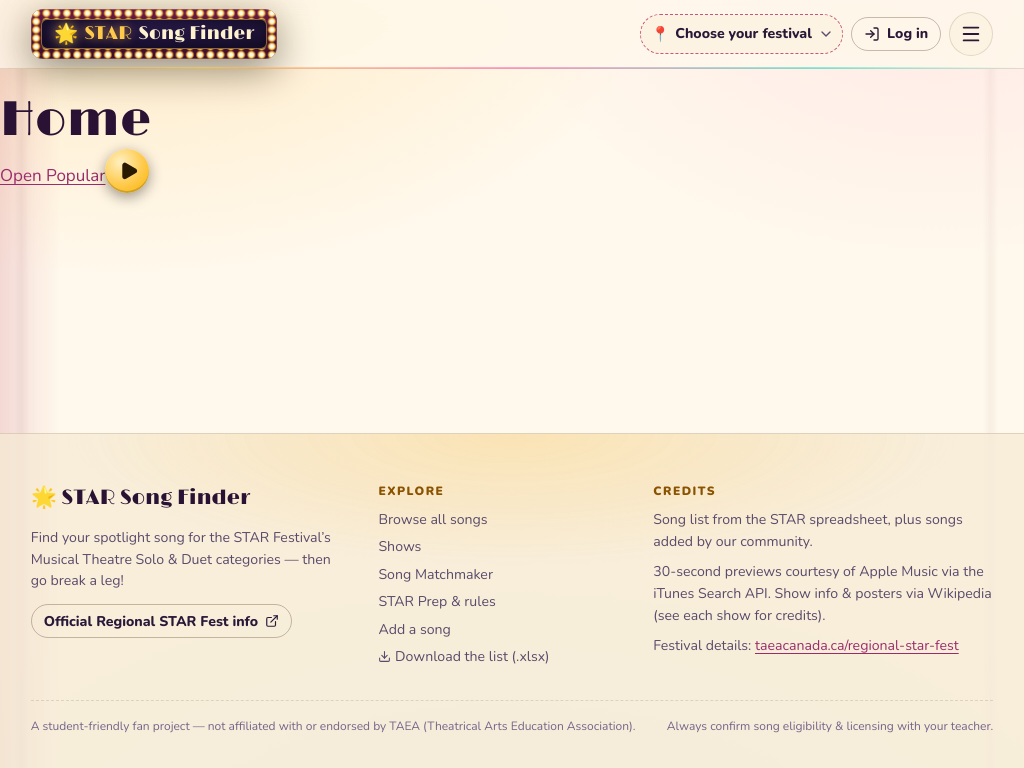
Test case: Header festival picker (SPEC §7b) › is in the header bar and in the mobile menu, and both stay in sync
The image size is (1024, 768).
Click the button with test id "menu-toggle".
click(971, 34)  # box 949,12 -> 993,56
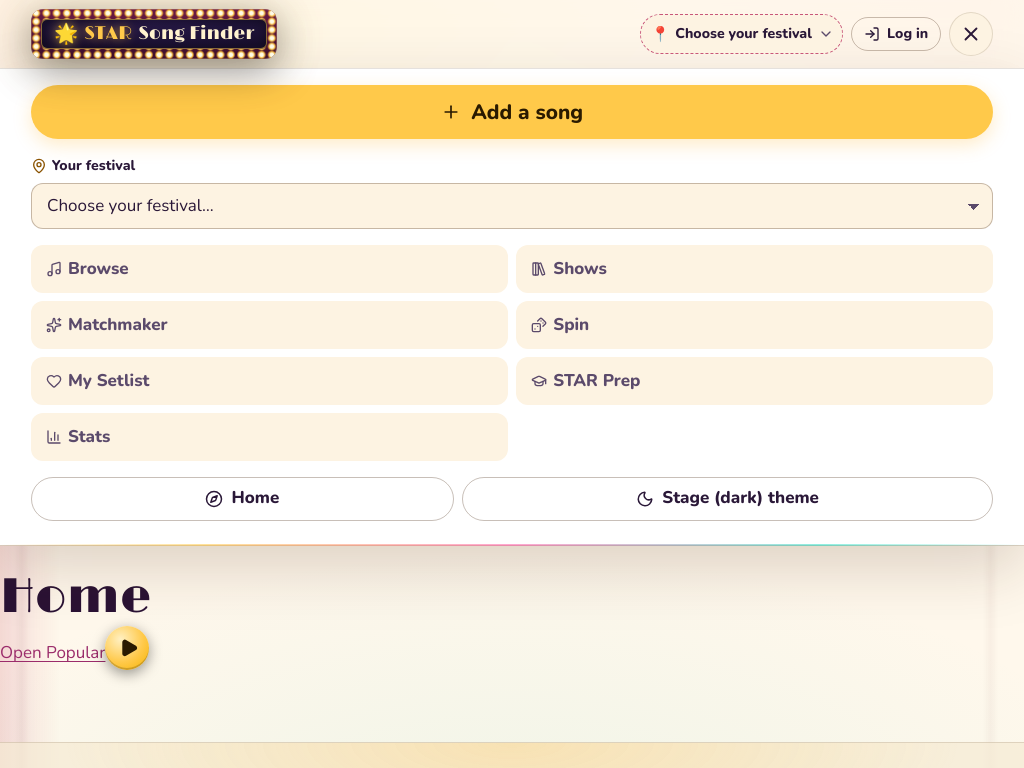
Select "Victoria — Dec 10, 2026" in the dropdown with test id "mobile-festival" showing "Your festival" at (512,206), box 31,182 -> 993,229
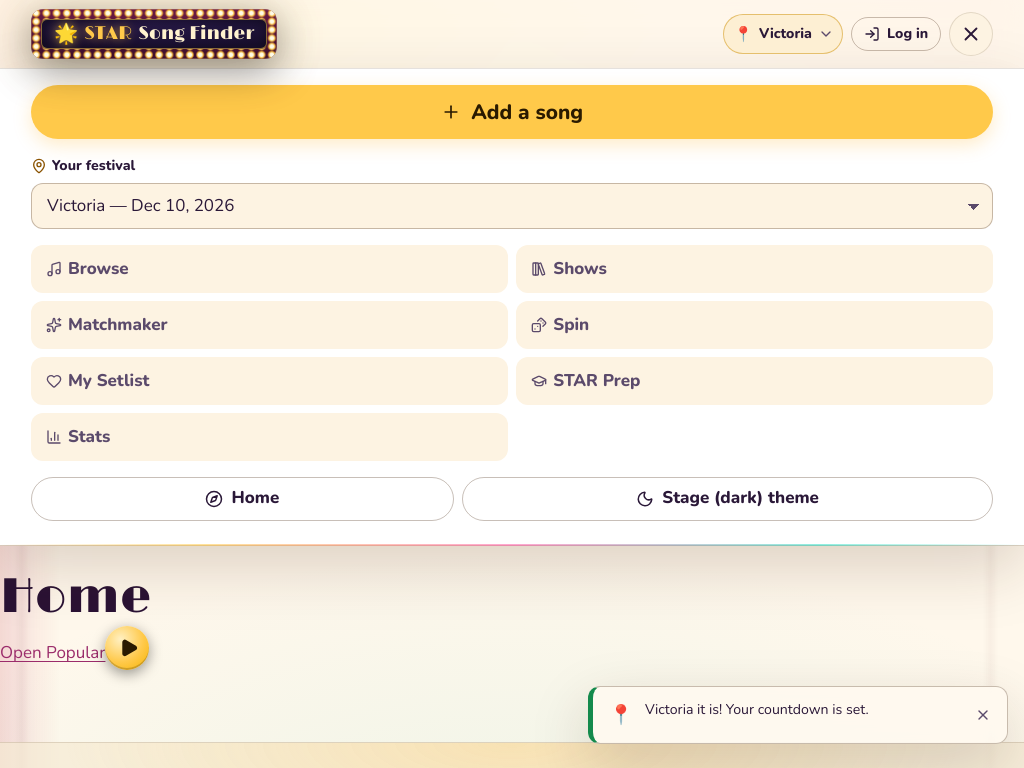
Now the text "Victoria it is! Your countdown is set." is shown, box 645,700 -> 869,719
